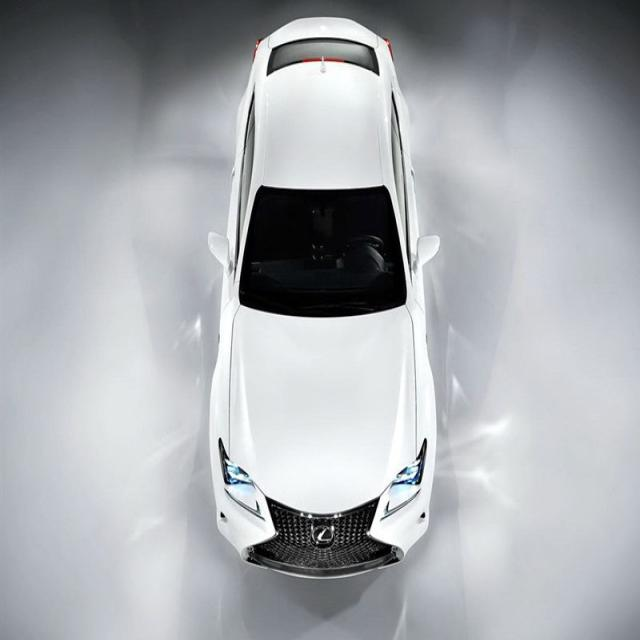back_glass: (266, 38, 379, 77)
back_left_side_light: (384, 37, 394, 60)
back_right_side_light: (253, 35, 263, 63)
front_bumper: (216, 505, 430, 580)
front_glass: (238, 185, 408, 320)
front_left_side_door: (378, 132, 427, 323)
front_left_side_light: (386, 437, 428, 518)
front_left_side_mirror: (415, 234, 441, 280)
front_right_side_door: (220, 122, 264, 313)
front_right_side_light: (218, 436, 260, 517)
front_right_side_mirror: (206, 229, 233, 276)
